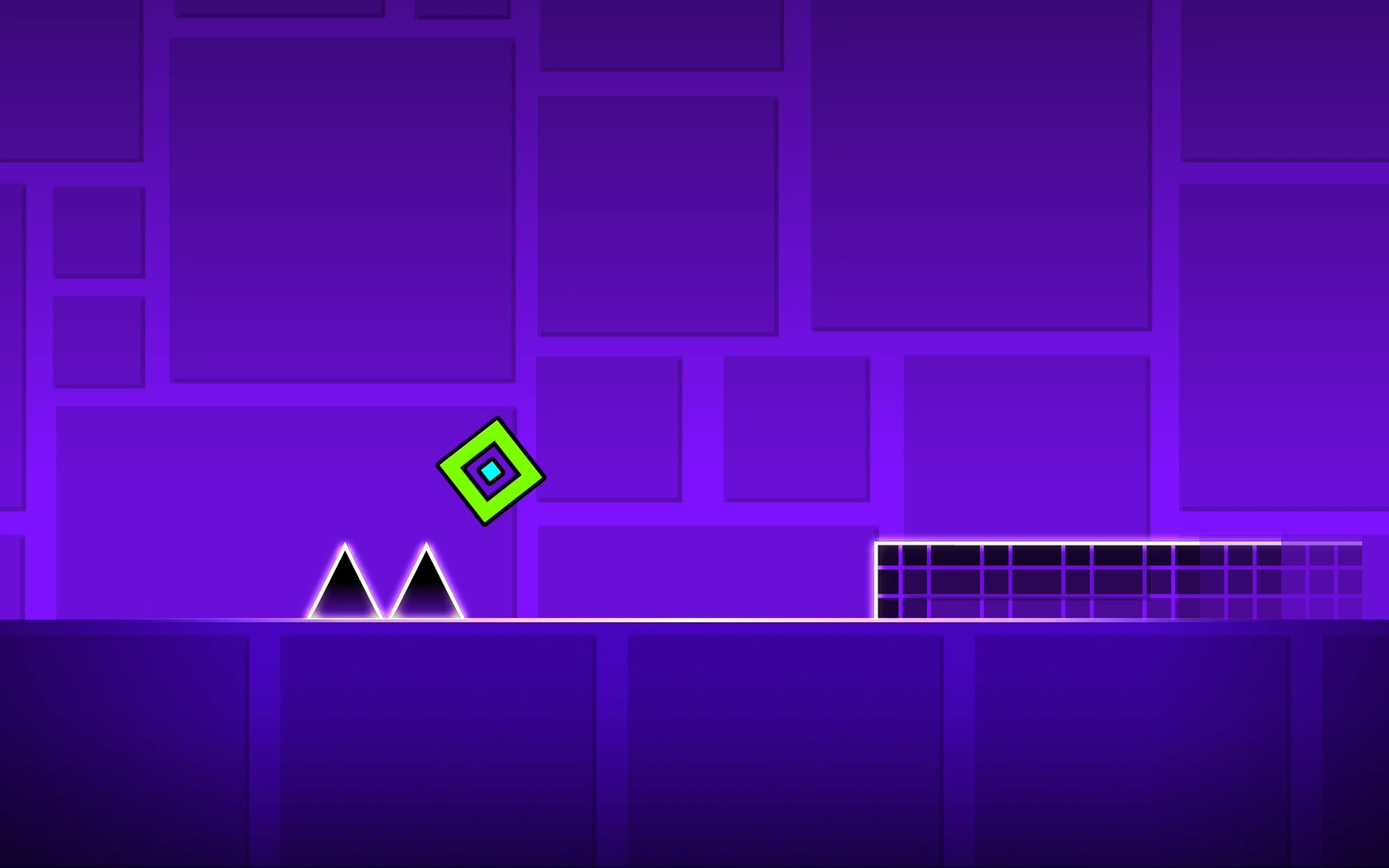Block2: (878, 539, 1381, 622)
Player: (437, 416, 545, 525)
Spike: (387, 542, 465, 619), (307, 544, 382, 620)
